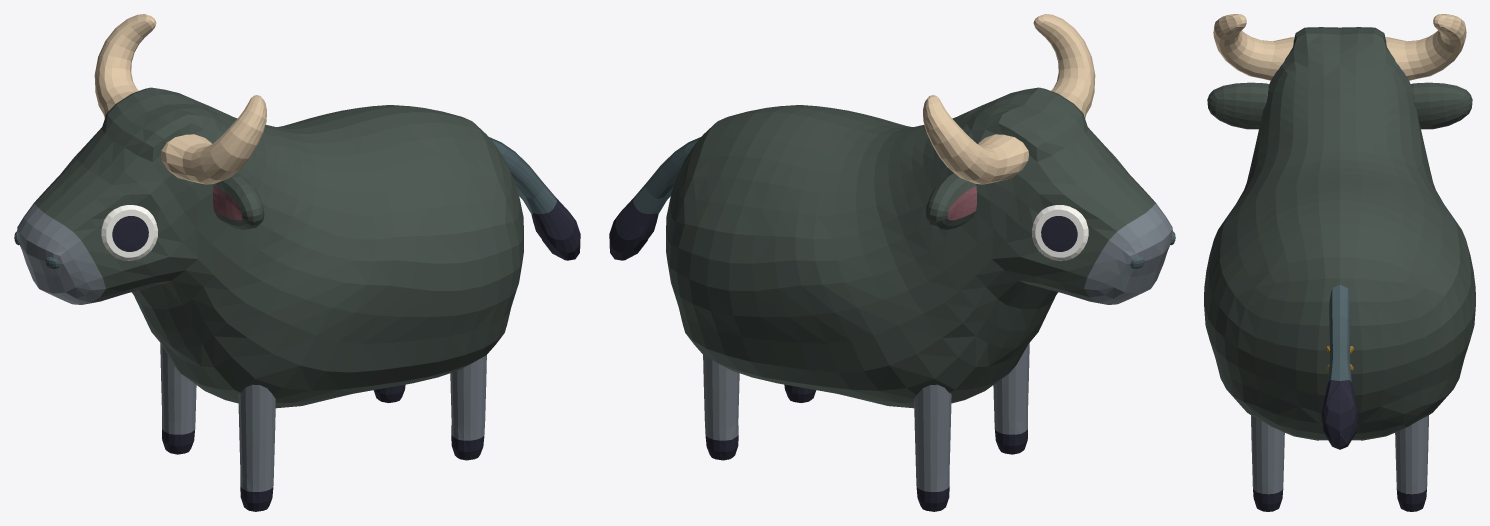
File: Buffalo_LOD0.fbx
The picture shows the model from 3 angles, left to right: view 1: azimuth 30°, elevation 25°; view 2: azimuth 150°, elevation 25°; view 3: azimuth 270°, elevation 25°; orthographic projection. The views are drawn at different scales.
Parts seen in each view (by area): view 1: Mesh; view 2: Mesh; view 3: Mesh.
Boxes of the visible parts, x1,y1,x2,y2 form: Mesh: [14, 14, 580, 511]; Mesh: [609, 14, 1175, 511]; Mesh: [1204, 14, 1475, 511].
Size of the model in its own units: 357 by 264 by 166.
1 material, 1 textured.
